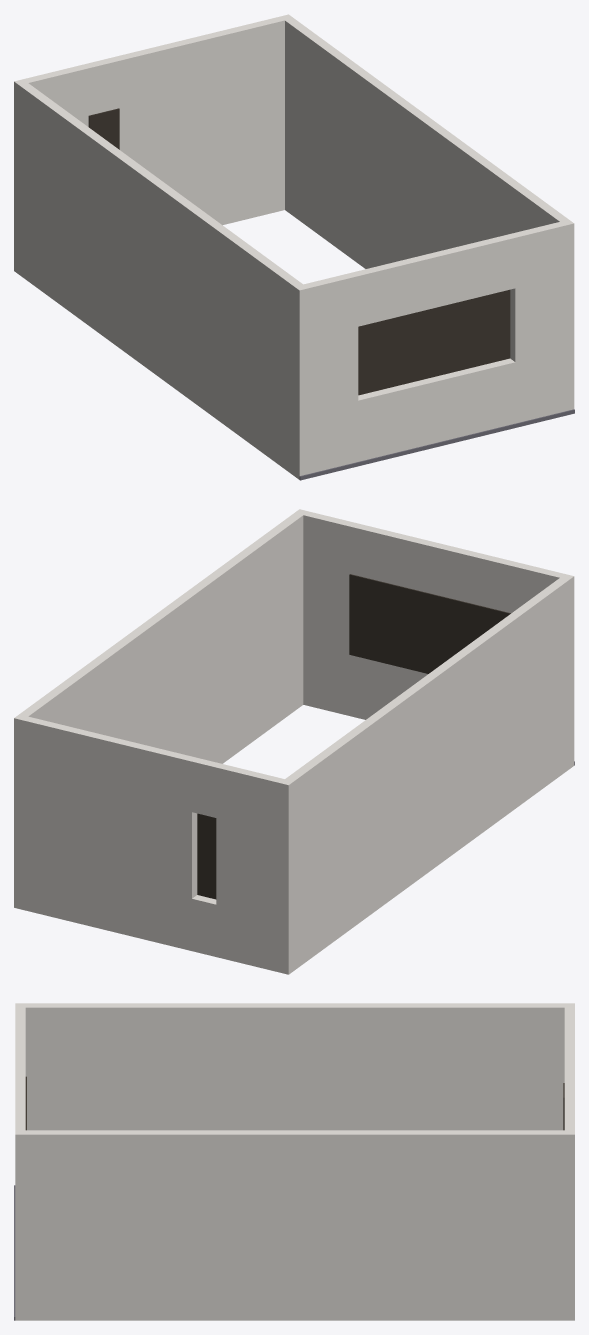
The model's file is SM_Floor_NarrowUpperWindow_White_455_Back_01.gltf.
The picture shows the model from 3 angles, top to bottom: view 1: azimuth 30°, elevation 25°; view 2: azimuth 150°, elevation 25°; view 3: azimuth 270°, elevation 25°; orthographic projection. The views are drawn at different scales.
Visible parts, largest first — view 1: SM_Floor_NarrowUpperWindow_White_455_Back_01; view 2: SM_Floor_NarrowUpperWindow_White_455_Back_01; view 3: SM_Floor_NarrowUpperWindow_White_455_Back_01.
Part boxes in pixels (box(x1,y1,x2,y2)): SM_Floor_NarrowUpperWindow_White_455_Back_01: box(14, 14, 574, 480); SM_Floor_NarrowUpperWindow_White_455_Back_01: box(14, 509, 574, 974); SM_Floor_NarrowUpperWindow_White_455_Back_01: box(14, 1003, 574, 1320).
Bounding box in the file's own units: 4.55 × 3 × 8.21.
1 material, 1 textured.
